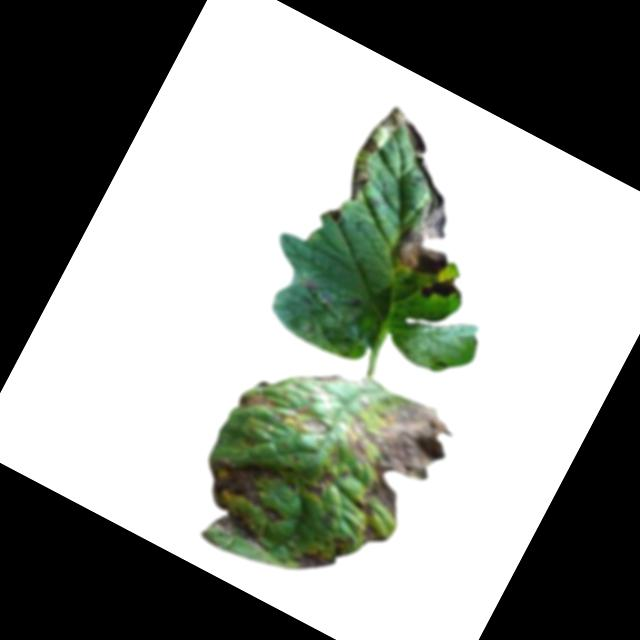Early_blight: (318, 374, 461, 525), (184, 431, 306, 555), (378, 157, 487, 284), (337, 99, 438, 221), (289, 522, 353, 587), (273, 391, 332, 443), (417, 267, 464, 314), (233, 382, 279, 423), (293, 277, 338, 315), (354, 521, 389, 551), (300, 479, 327, 502)
